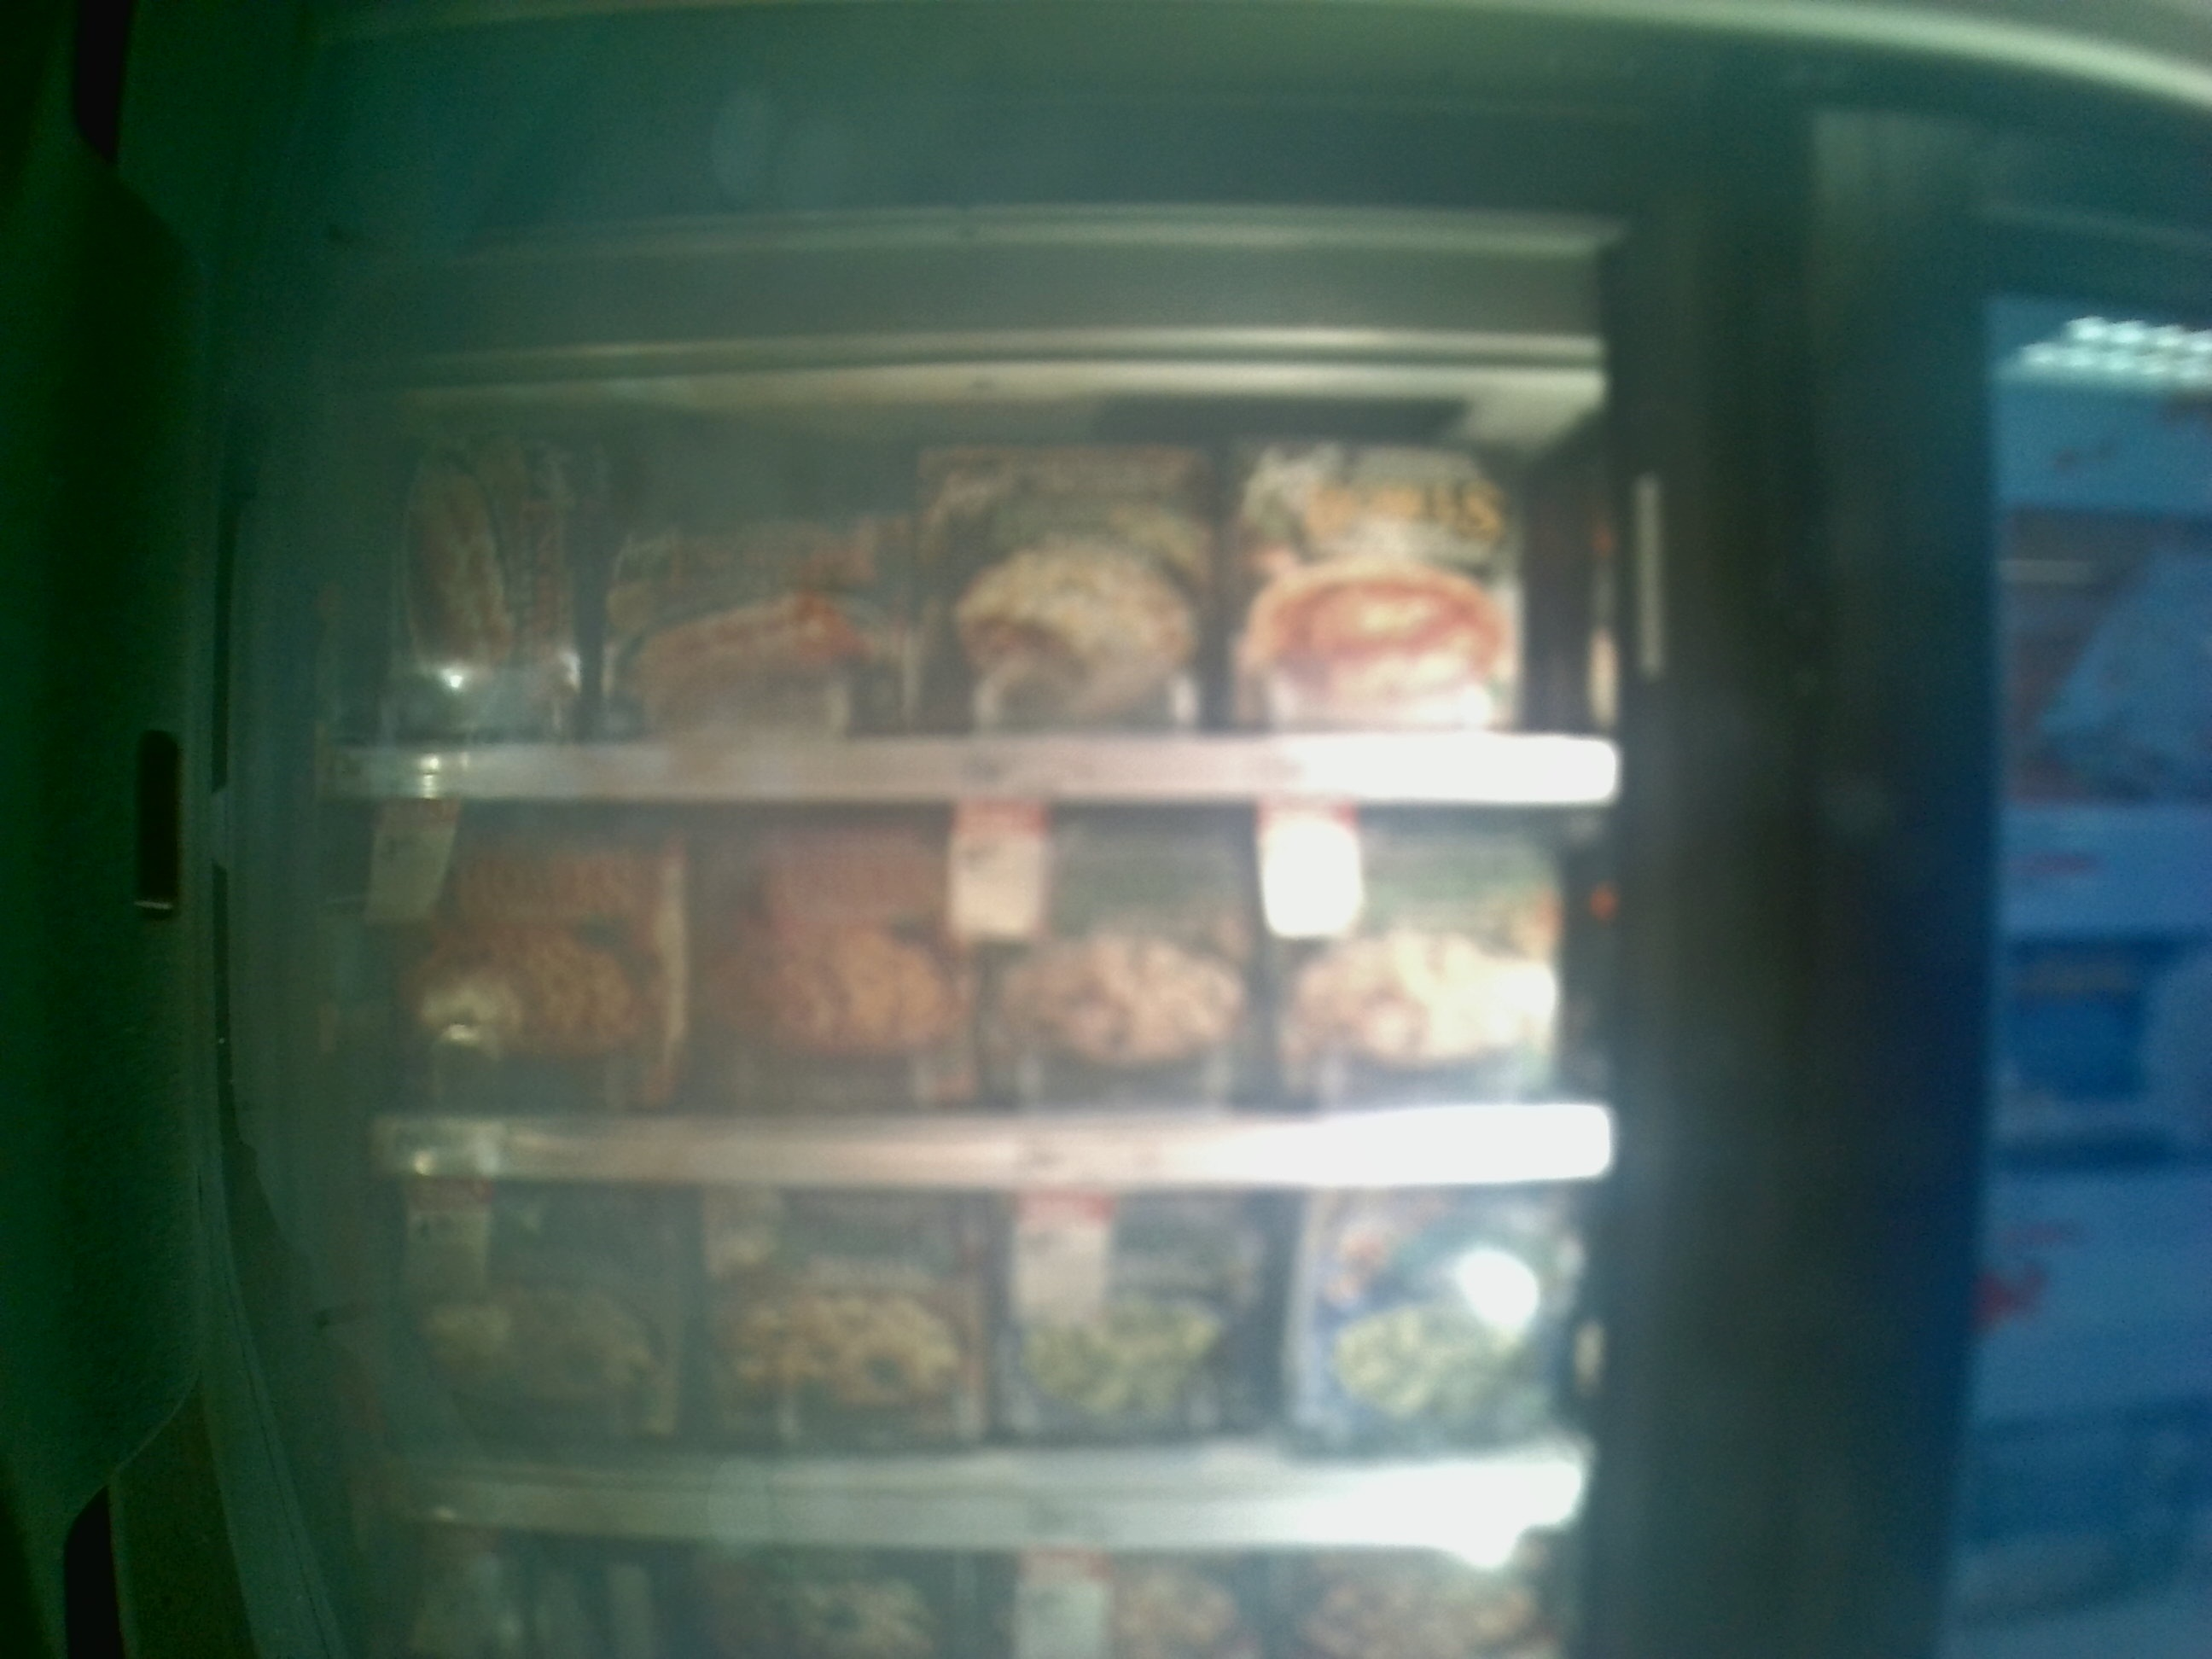frozen-food-shelf: (286, 422, 1634, 814), (284, 812, 1655, 1195), (284, 1199, 1663, 1554)
